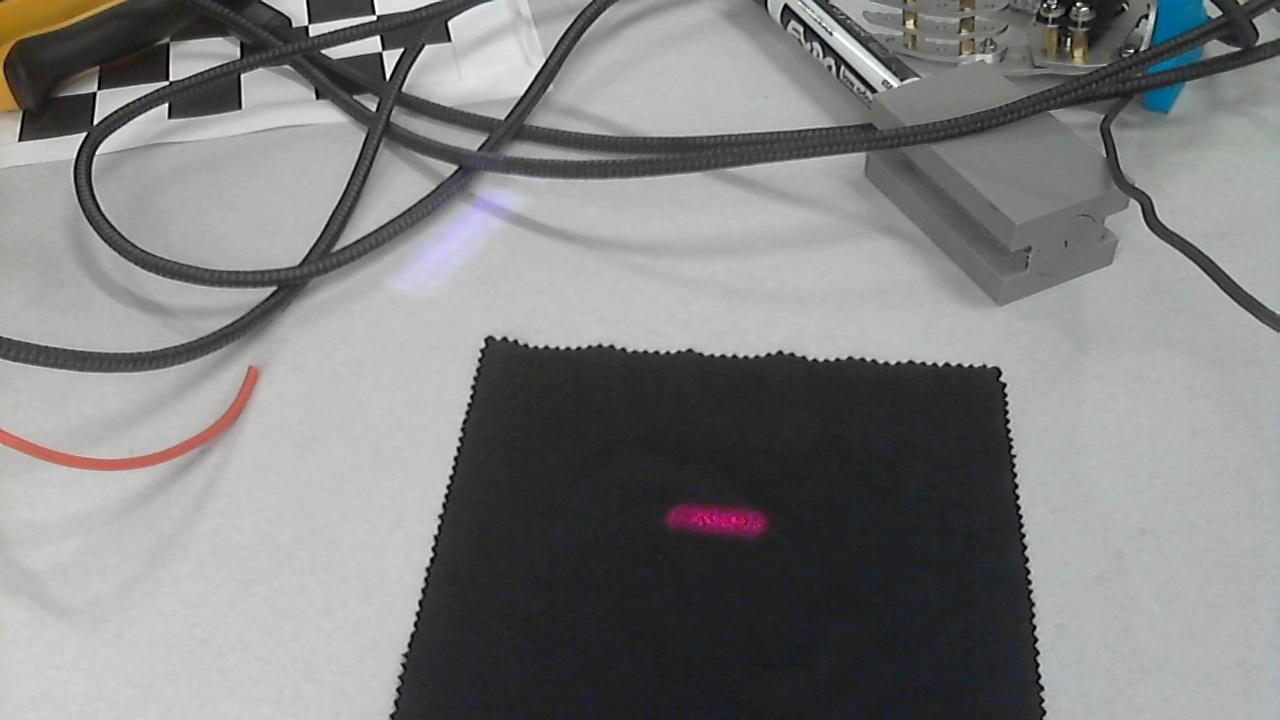Object microfiber cleaning cloth - Material fabric - Color black - Pdfname drQGv: (656, 484, 784, 558)
